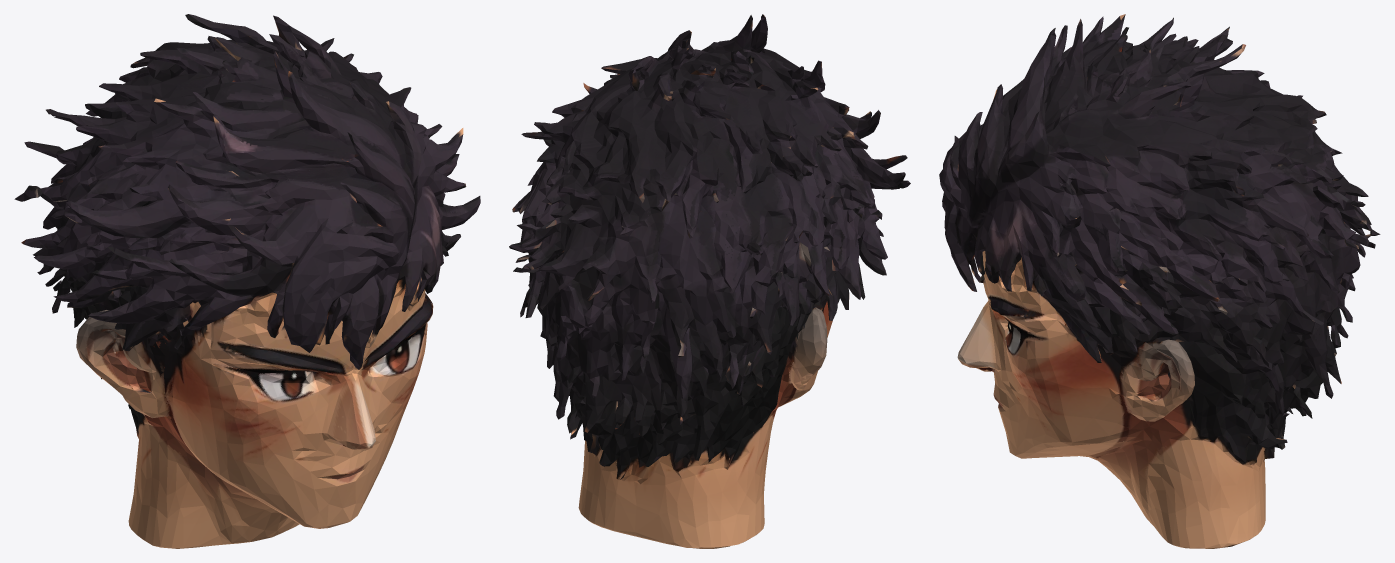
The model's file is side_mbushi_repaired_atlas.glb.
3 renders of one model, left to right at view 1: azimuth 30°, elevation 25°; view 2: azimuth 150°, elevation 25°; view 3: azimuth 270°, elevation 25°, orthographic. The views are drawn at different scales.
Visible parts, largest first — view 1: temp_mesh.ply; view 2: temp_mesh.ply; view 3: temp_mesh.ply.
Boxes of the visible parts, x1,y1,x2,y2 form: temp_mesh.ply: (14,14,480,548); temp_mesh.ply: (509,14,910,548); temp_mesh.ply: (939,14,1380,548).
Size of the model in its own units: 1 by 1.22 by 1.02.
1 material, 1 textured.
